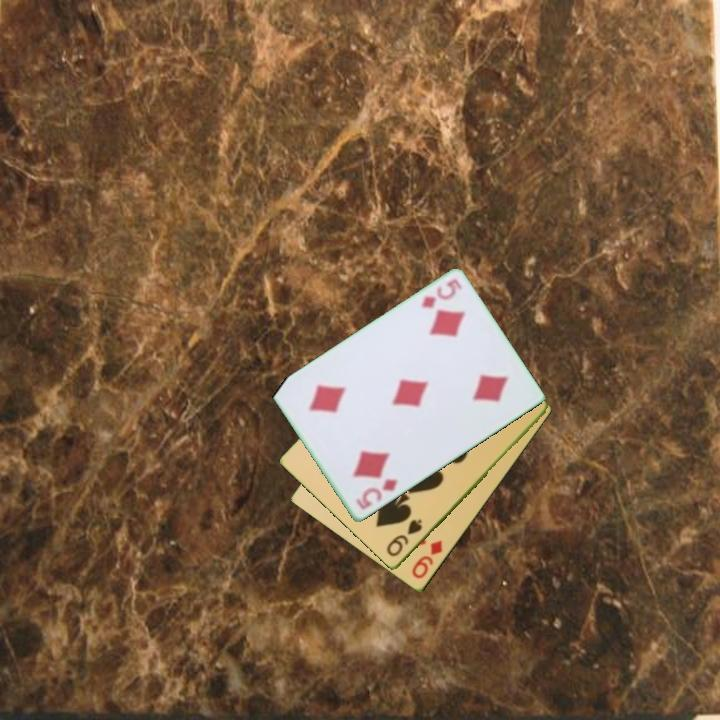5d: (352, 475, 401, 513), (417, 276, 465, 312)
9d: (408, 537, 446, 582)
9s: (383, 516, 425, 560)
